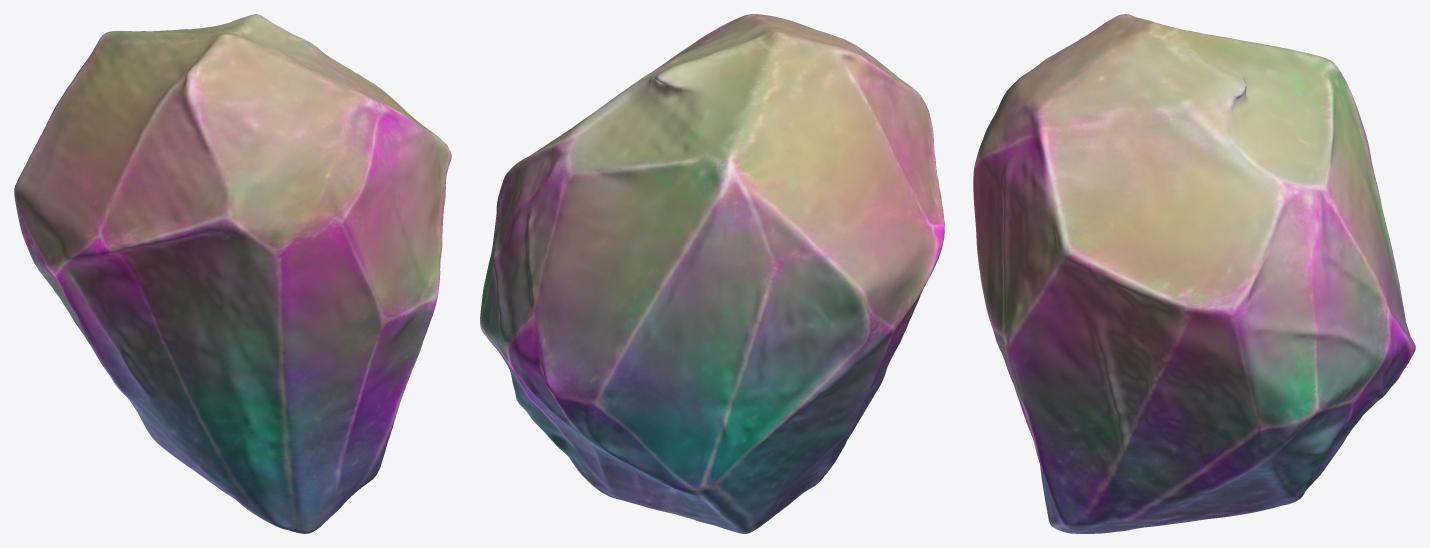
Rendered from crystal.glb.
3 views of the same model, side by side, from view 1: azimuth 30°, elevation 25°; view 2: azimuth 150°, elevation 25°; view 3: azimuth 270°, elevation 25° (orthographic). The views are drawn at different scales.
Visible parts, largest first — view 1: high_poly_0; view 2: high_poly_0; view 3: high_poly_0.
Boxes of the visible parts, box(x1,y1,x2,y2) form: high_poly_0: box(14, 14, 451, 533); high_poly_0: box(480, 14, 944, 533); high_poly_0: box(973, 14, 1415, 533).
Bounding box in the file's own units: 0.8384 × 1 × 0.8297.
1 material, 1 textured.
